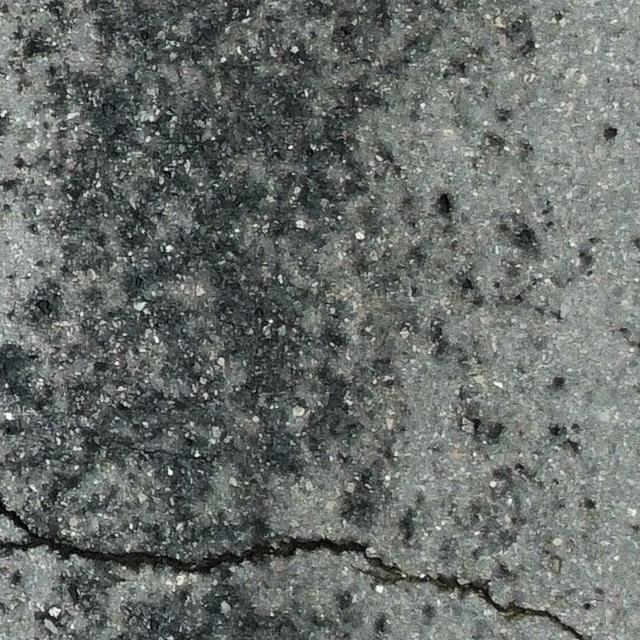TransverseCrack: (1, 494, 582, 640)
